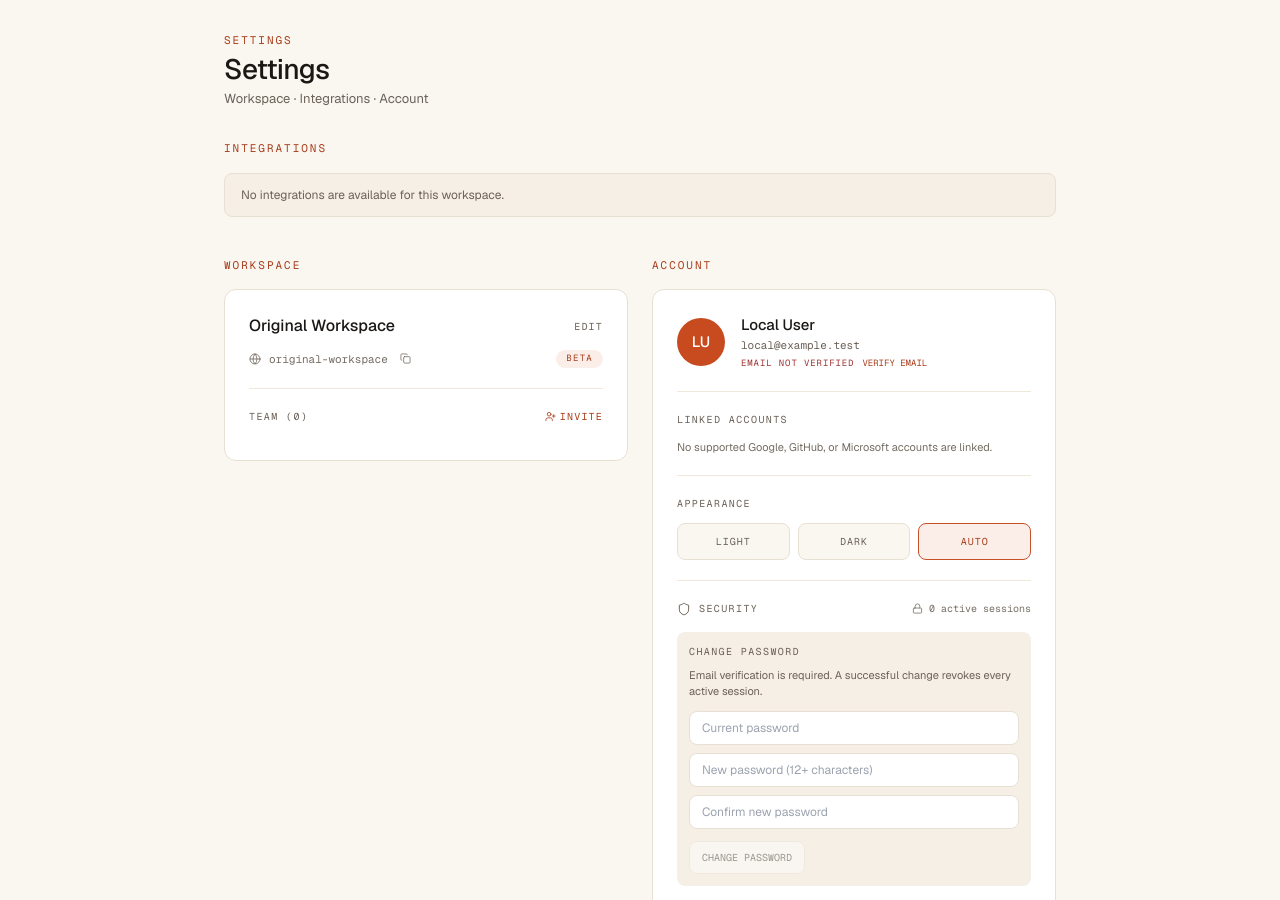
Test: Settings workspace persistence › persists a workspace rename before updating shared state or claiming success
Expected: the text "Original Workspace" is shown, [249,315,395,336]
Click the button "Edit" at (589, 326), box [574,318,603,334]
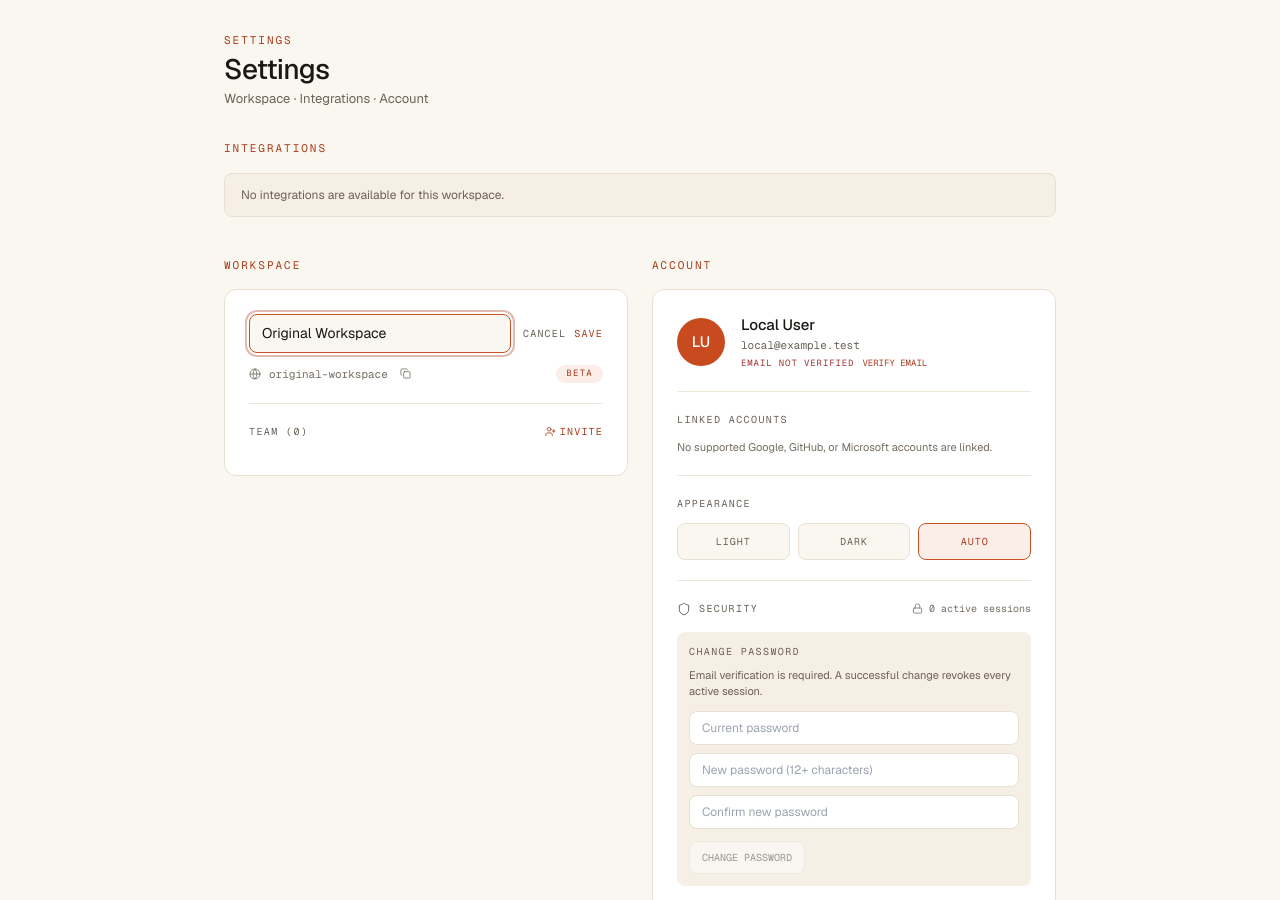
Replace the text in the field with "Persisted Workspace" at (380, 334), box [249,314,511,353]
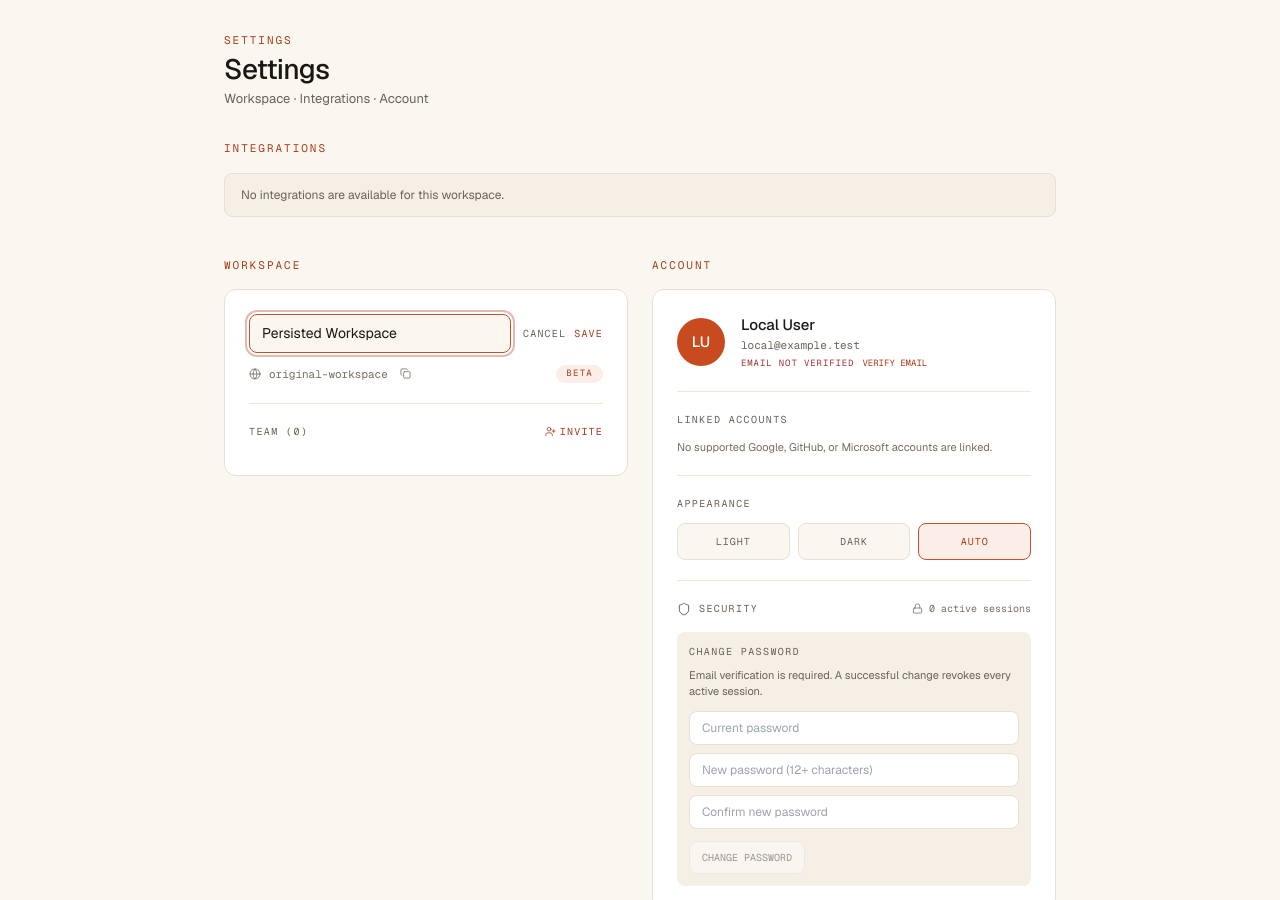
Click the button "Save" at (589, 334), box [574,326,603,341]
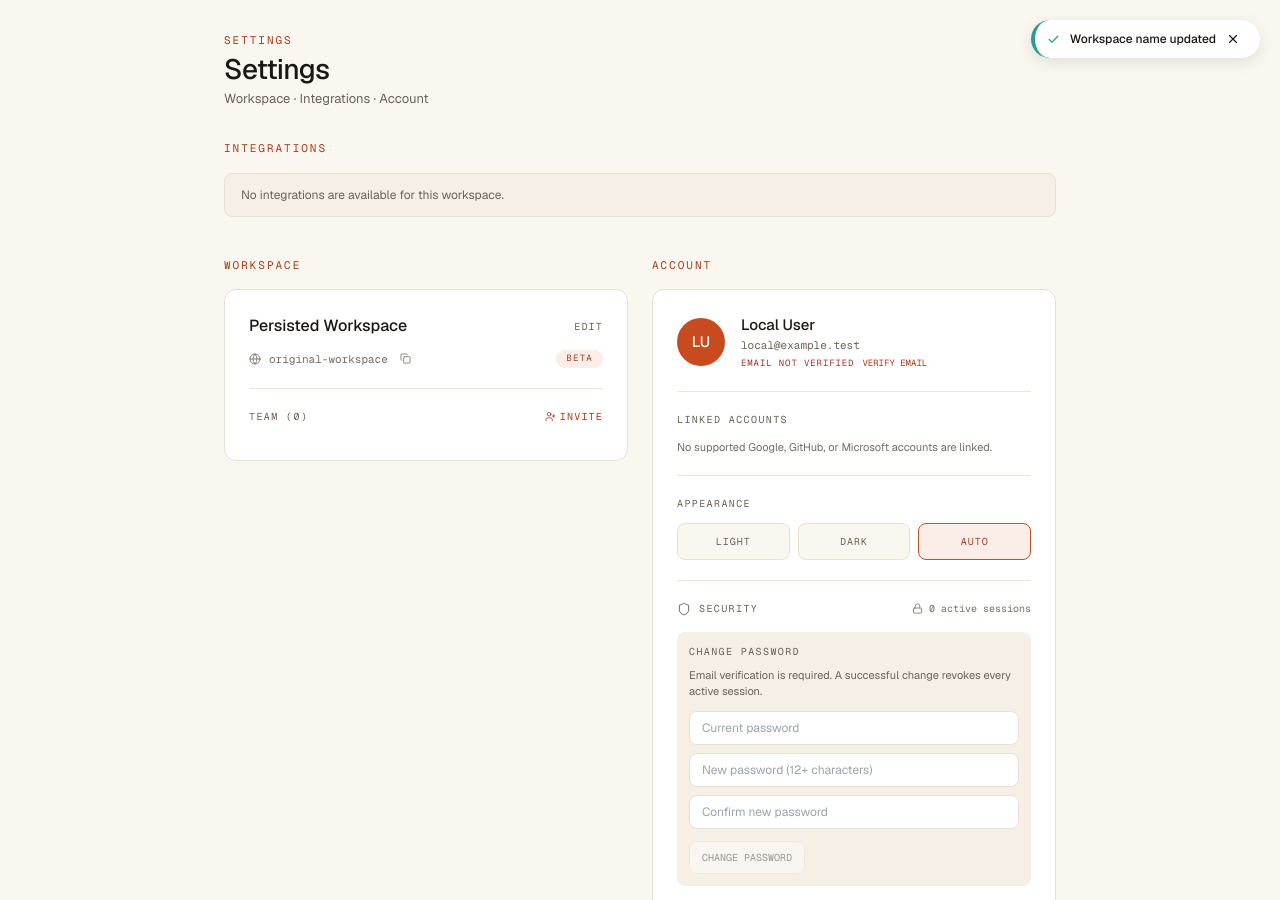
Expected: the text "Persisted Workspace" is shown, [249,315,407,336]
Expected: the text "Workspace name updated" is shown, [1070,30,1216,48]
